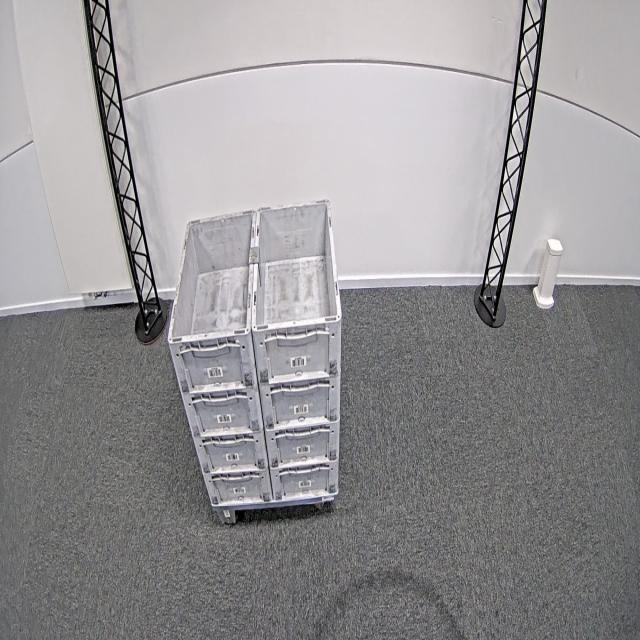Roll8G: (166, 196, 344, 344)
